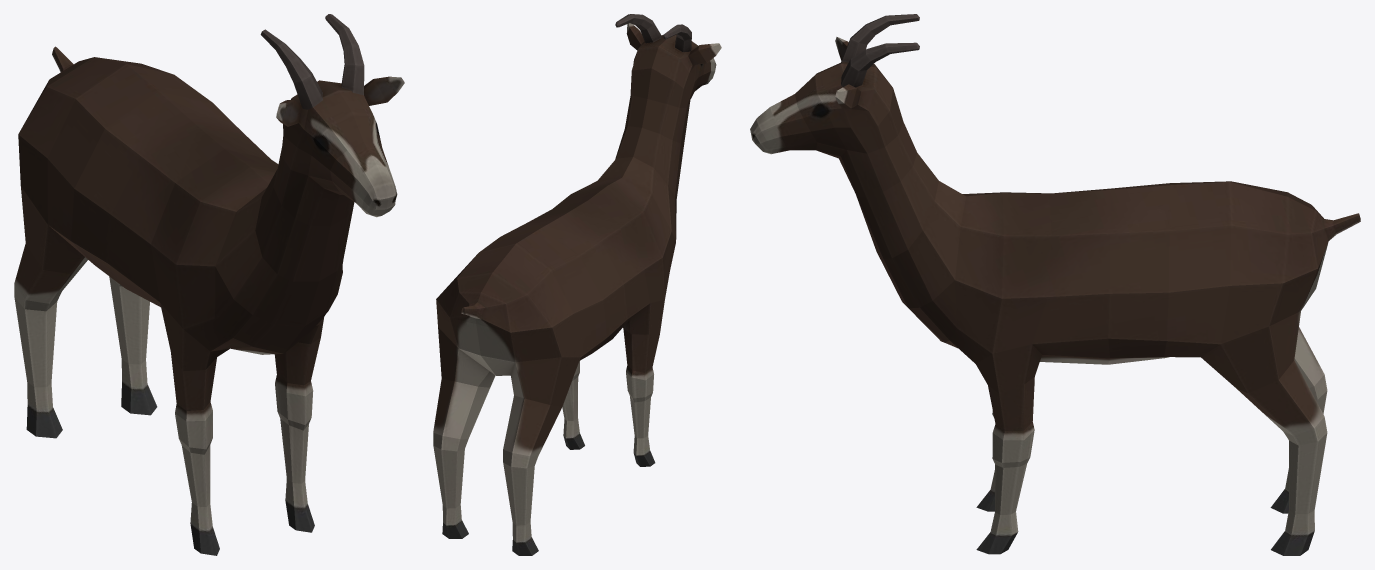
Rendered from cabra.glb.
3 views of the same model, side by side, from view 1: azimuth 30°, elevation 25°; view 2: azimuth 150°, elevation 25°; view 3: azimuth 270°, elevation 25° (orthographic). The views are drawn at different scales.
Visible parts, largest first — view 1: Goat_mesh; view 2: Goat_mesh; view 3: Goat_mesh.
Part boxes in pixels (x1,y1,x2,y2): Goat_mesh: [14, 14, 404, 555]; Goat_mesh: [433, 14, 721, 555]; Goat_mesh: [750, 14, 1360, 555].
Size of the model in its own units: 2.26 by 6.6 by 7.31.
Materials: 1 (1 with a texture image).
